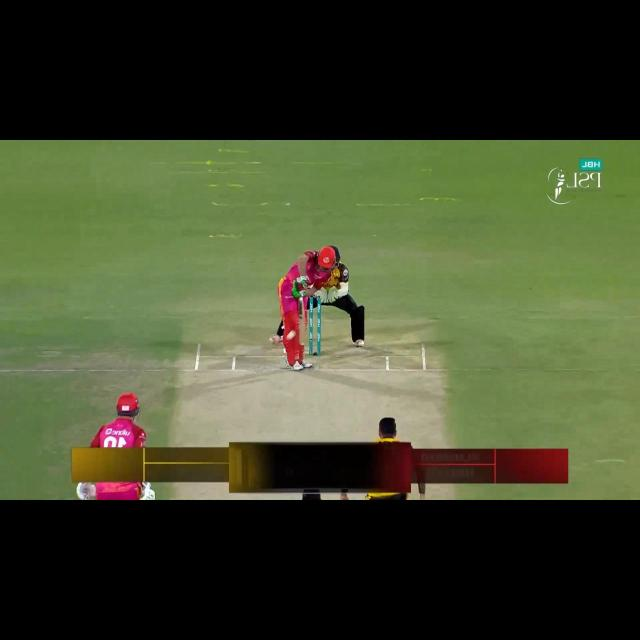bat: (297, 304, 309, 346)
toe: (298, 338, 308, 345)
